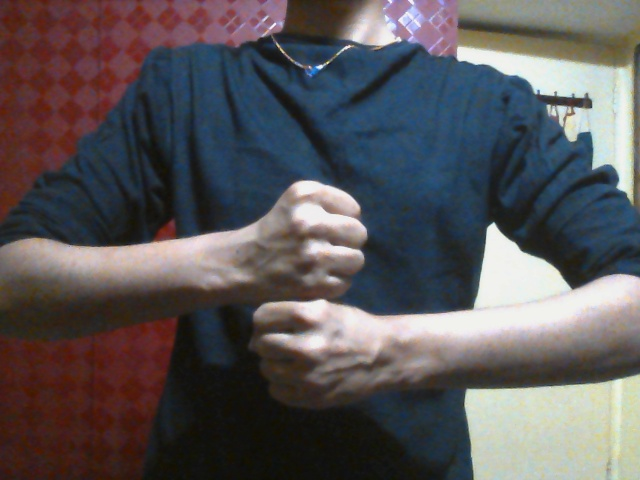G: (245, 179, 387, 409)
